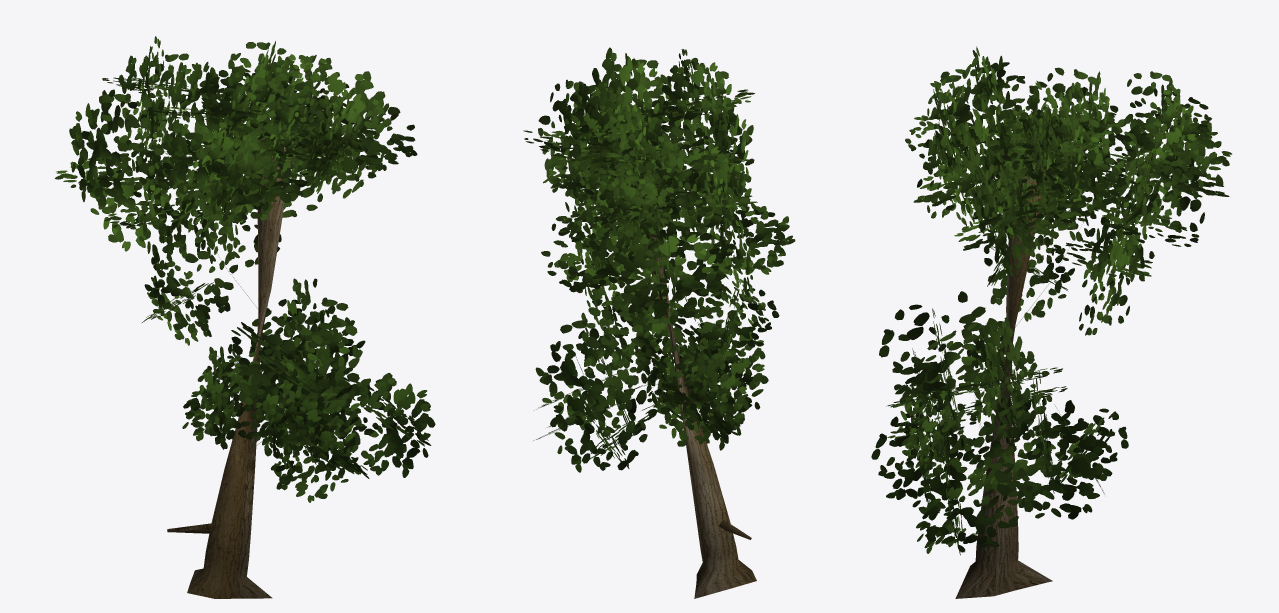
File: env_tree_prairie_young_01.glb
The picture shows the model from 3 angles, left to right: view 1: azimuth 30°, elevation 25°; view 2: azimuth 150°, elevation 25°; view 3: azimuth 270°, elevation 25°; orthographic projection. The views are drawn at different scales.
Visible parts, largest first — view 1: tree_prairie_young_01; view 2: tree_prairie_young_01; view 3: tree_prairie_young_01.
Boxes of the visible parts, x1,y1,x2,y2 form: tree_prairie_young_01: [55, 36, 435, 598]; tree_prairie_young_01: [523, 47, 795, 598]; tree_prairie_young_01: [871, 46, 1231, 598].
Size of the model in its own units: 1.55 by 2.53 by 1.7.
Materials: 2 (2 with a texture image).
